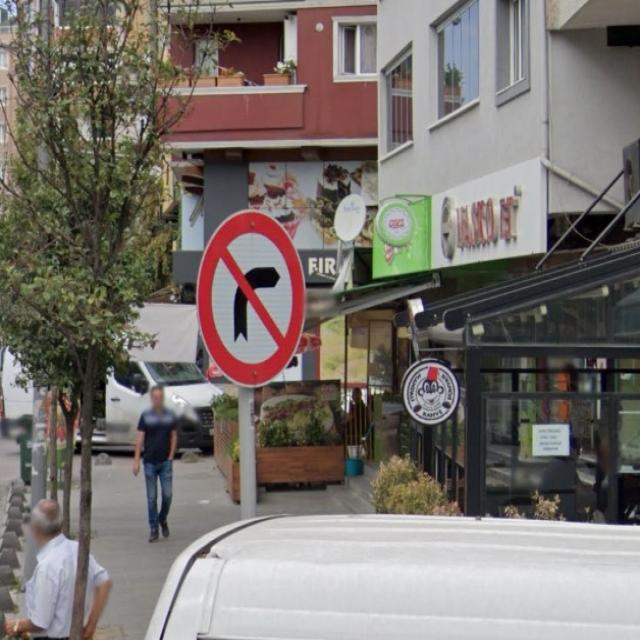sagadonulmez: (194, 211, 304, 388)
